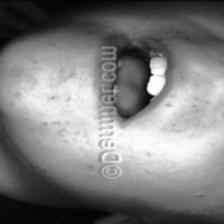Toxin: (174, 74, 212, 136), (23, 114, 71, 138), (86, 162, 96, 178)
